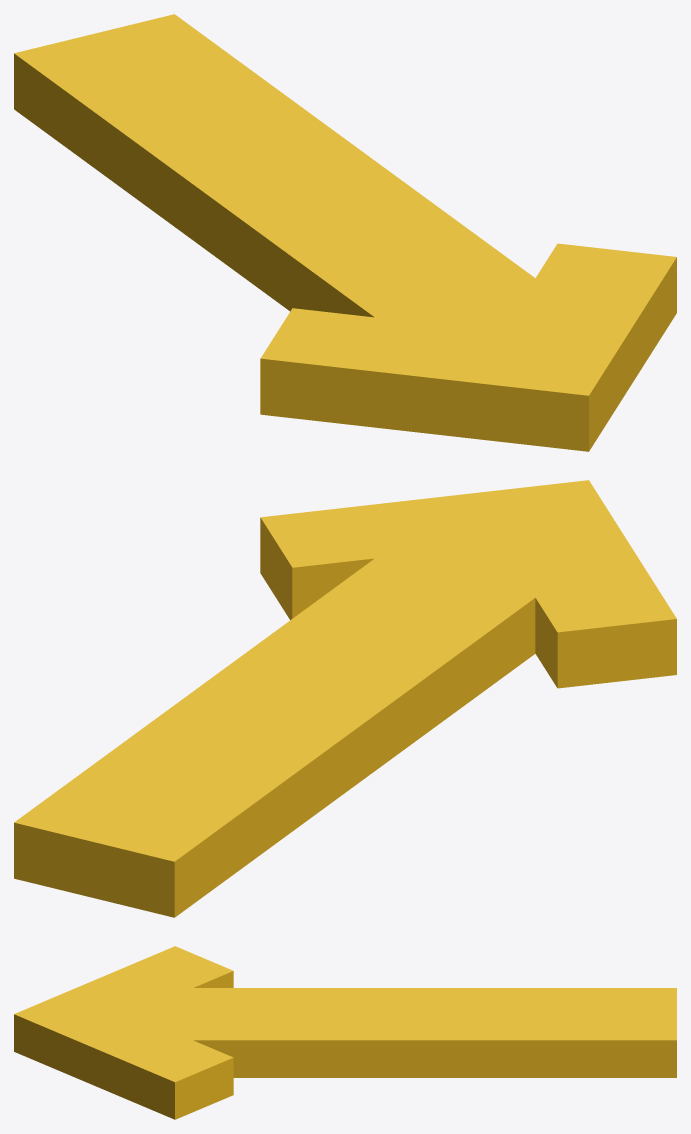
The model's file is Arrow Yellow.glb.
The picture shows the model from 3 angles, top to bottom: view 1: azimuth 30°, elevation 25°; view 2: azimuth 150°, elevation 25°; view 3: azimuth 270°, elevation 25°; orthographic projection. The views are drawn at different scales.
Parts seen in each view (by area): view 1: cube; view 2: cube; view 3: cube.
Boxes of the visible parts, left/top/right/bottom form: cube: left=14, top=14, right=676, bottom=451; cube: left=14, top=480, right=676, bottom=917; cube: left=14, top=946, right=676, bottom=1119.
Bounding box in the file's own units: 0.9723 × 0.125 × 2.
Materials: 1 (1 with a texture image).
